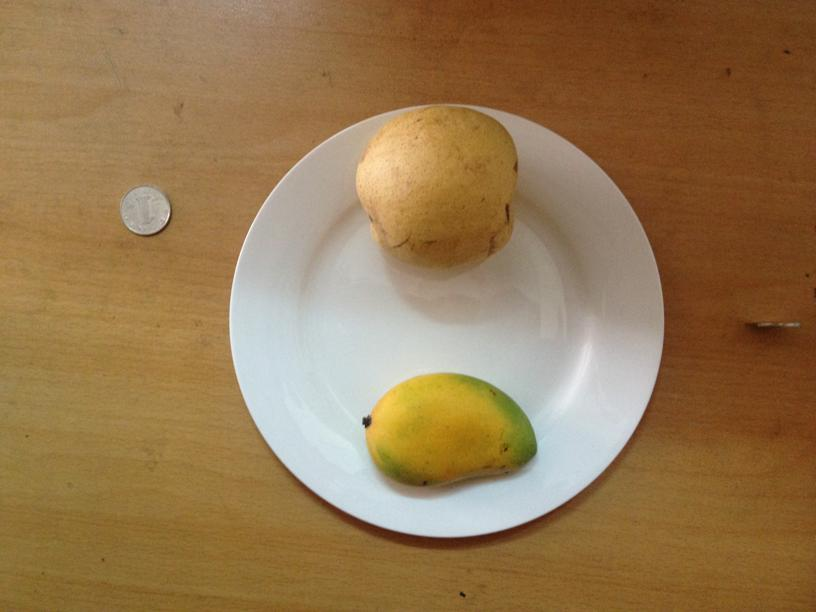coin: (118, 184, 172, 238)
mango: (365, 373, 538, 485)
pear: (354, 103, 519, 266)
